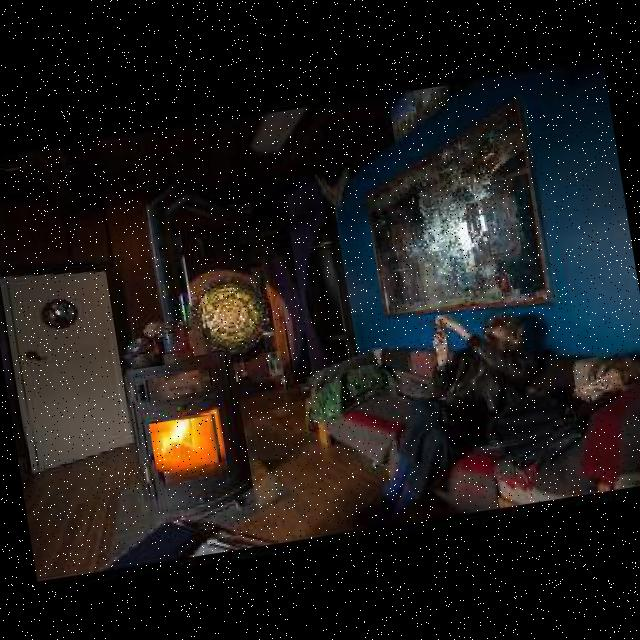fire: (149, 413, 222, 472)
